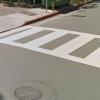Crosswalk: (2, 21, 98, 65)
